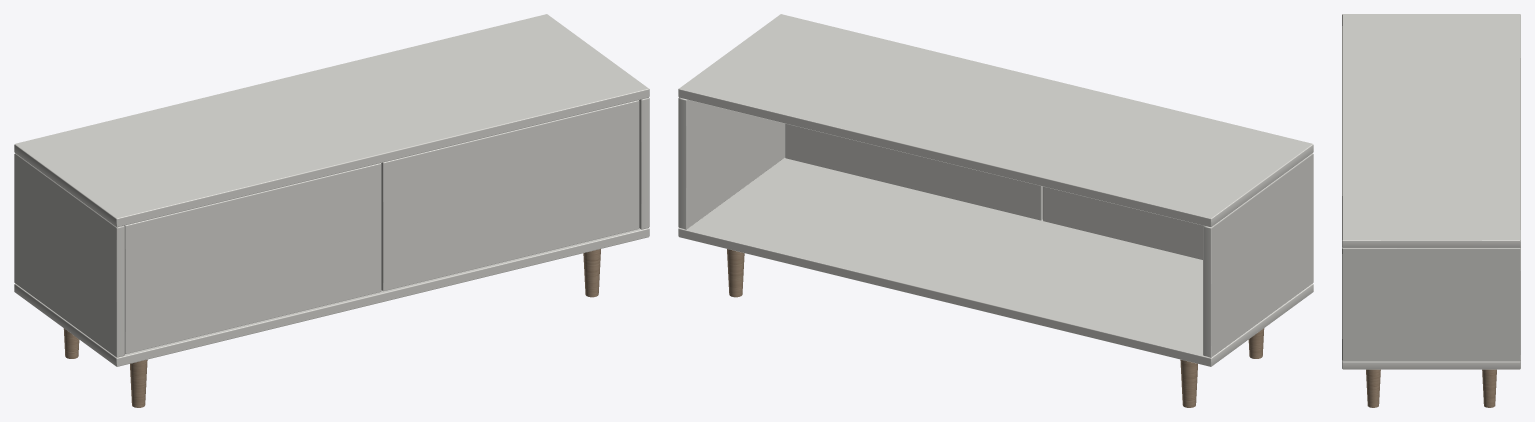
File: tv_unit_white.glb
3 views of the same model, side by side, from view 1: azimuth 30°, elevation 25°; view 2: azimuth 150°, elevation 25°; view 3: azimuth 270°, elevation 25° (orthographic). The views are drawn at different scales.
Parts seen in each view (by area): view 1: tv_unit_hard, tv_unit_smooth; view 2: tv_unit_hard, tv_unit_smooth; view 3: tv_unit_hard, tv_unit_smooth.
Part boxes in pixels (left/top/right/bottom): tv_unit_hard: left=14, top=14, right=649, bottom=366; tv_unit_smooth: left=63, top=249, right=600, bottom=407; tv_unit_hard: left=678, top=14, right=1313, bottom=366; tv_unit_smooth: left=727, top=249, right=1264, bottom=407; tv_unit_hard: left=1342, top=14, right=1520, bottom=369; tv_unit_smooth: left=1366, top=369, right=1496, bottom=407.
Size of the model in its own units: 1.2 by 0.4499 by 0.4.
Materials: 3 (1 with a texture image).
